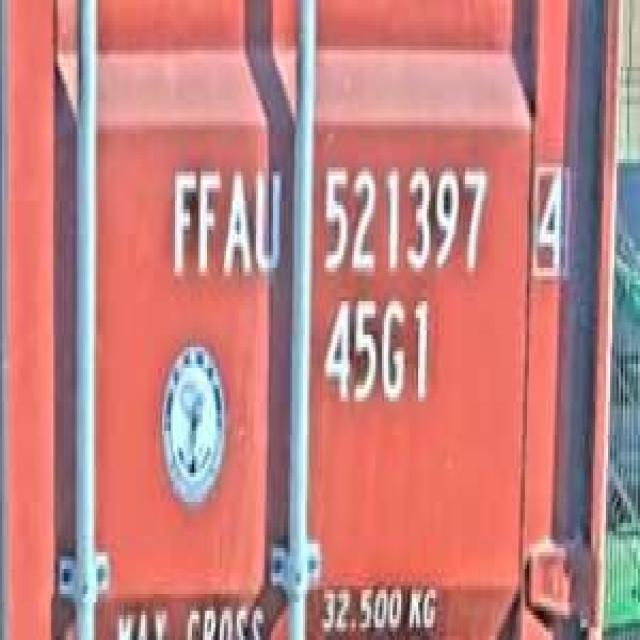dv: (527, 151, 570, 280)
owner: (164, 150, 286, 292)
serial: (316, 155, 490, 284)
size: (316, 288, 437, 422)
